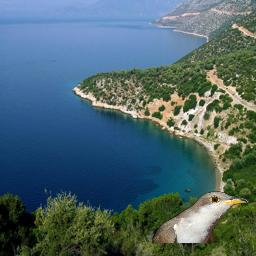Cuckoo: (152, 191, 248, 243)
